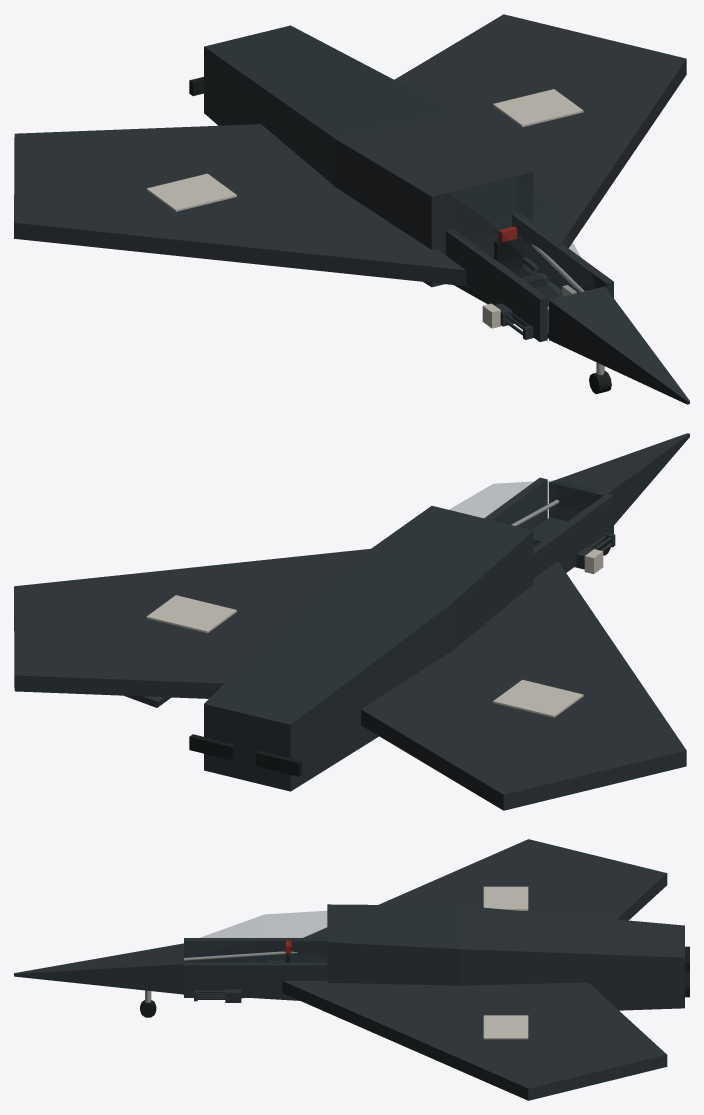
The picture shows the model from 3 angles, top to bottom: view 1: azimuth 30°, elevation 25°; view 2: azimuth 150°, elevation 25°; view 3: azimuth 270°, elevation 25°; orthographic projection. The views are drawn at different scales.
Parts seen in each view (by area): view 1: stealth-jet-painted, stealth-canopy-glazing, crew-chair-pilot-painted, machine-gun-fixed-pitch-stealth-left-painted; view 2: stealth-jet-painted, stealth-canopy-glazing, machine-gun-fixed-pitch-stealth-left-painted; view 3: stealth-jet-painted, stealth-canopy-glazing.
Boxes of the visible parts, x1,y1,x2,y2 form: stealth-jet-painted: (14, 14, 689, 404); stealth-canopy-glazing: (449, 176, 595, 312); crew-chair-pilot-painted: (494, 226, 548, 287); machine-gun-fixed-pitch-stealth-left-painted: (482, 303, 513, 328); stealth-jet-painted: (14, 433, 689, 810); stealth-canopy-glazing: (449, 480, 595, 548); machine-gun-fixed-pitch-stealth-left-painted: (575, 546, 603, 574); stealth-jet-painted: (14, 839, 689, 1100); stealth-canopy-glazing: (184, 911, 326, 963).
Size of the model in its own units: 78.16 by 13.45 by 89.47.
